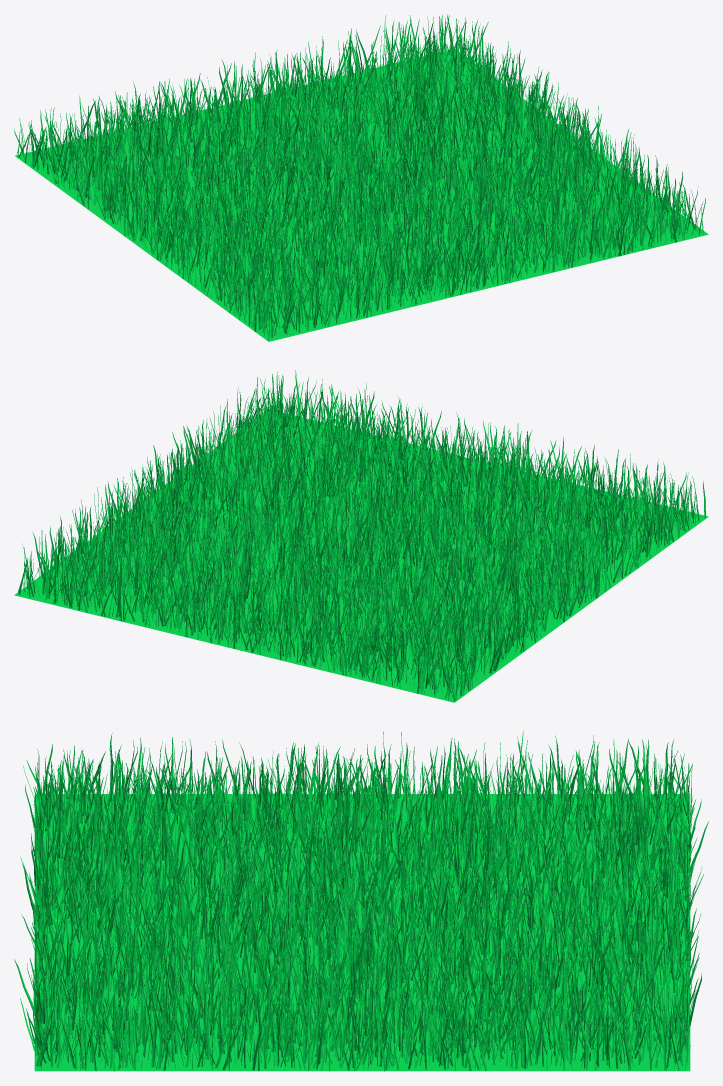
File: grass.fbx
3 views of the same model, one above another, from view 1: azimuth 30°, elevation 25°; view 2: azimuth 150°, elevation 25°; view 3: azimuth 270°, elevation 25° (orthographic). The views are drawn at different scales.
Visible parts, largest first — view 1: Plane.001; view 2: Plane.001; view 3: Plane.001.
Part boxes in pixels (x1,y1,x2,y2): Plane.001: [14, 14, 708, 341]; Plane.001: [14, 370, 708, 702]; Plane.001: [14, 731, 708, 1071].
Bounding box in the file's own units: 2.09 × 0.2107 × 2.12.
